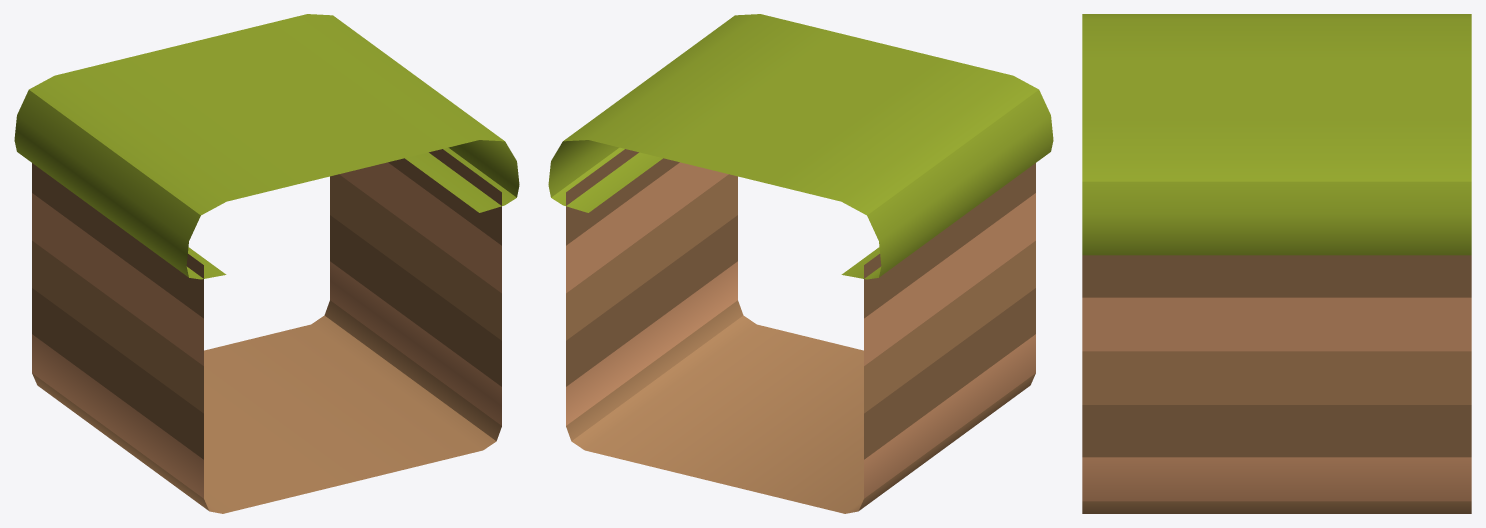
The model's file is Cube_Grass_1x1Center.003.fbx.
The picture shows the model from 3 angles, left to right: view 1: azimuth 30°, elevation 25°; view 2: azimuth 150°, elevation 25°; view 3: azimuth 270°, elevation 25°; orthographic projection. The views are drawn at different scales.
Visible parts, largest first — view 1: Cube_Grass_1x1Center.003; view 2: Cube_Grass_1x1Center.003; view 3: Cube_Grass_1x1Center.003.
Part boxes in pixels (bbox=[...]): Cube_Grass_1x1Center.003: bbox=[14, 14, 519, 513]; Cube_Grass_1x1Center.003: bbox=[548, 14, 1053, 513]; Cube_Grass_1x1Center.003: bbox=[1082, 14, 1471, 513].
Size of the model in its own units: 223 by 200 by 200.
